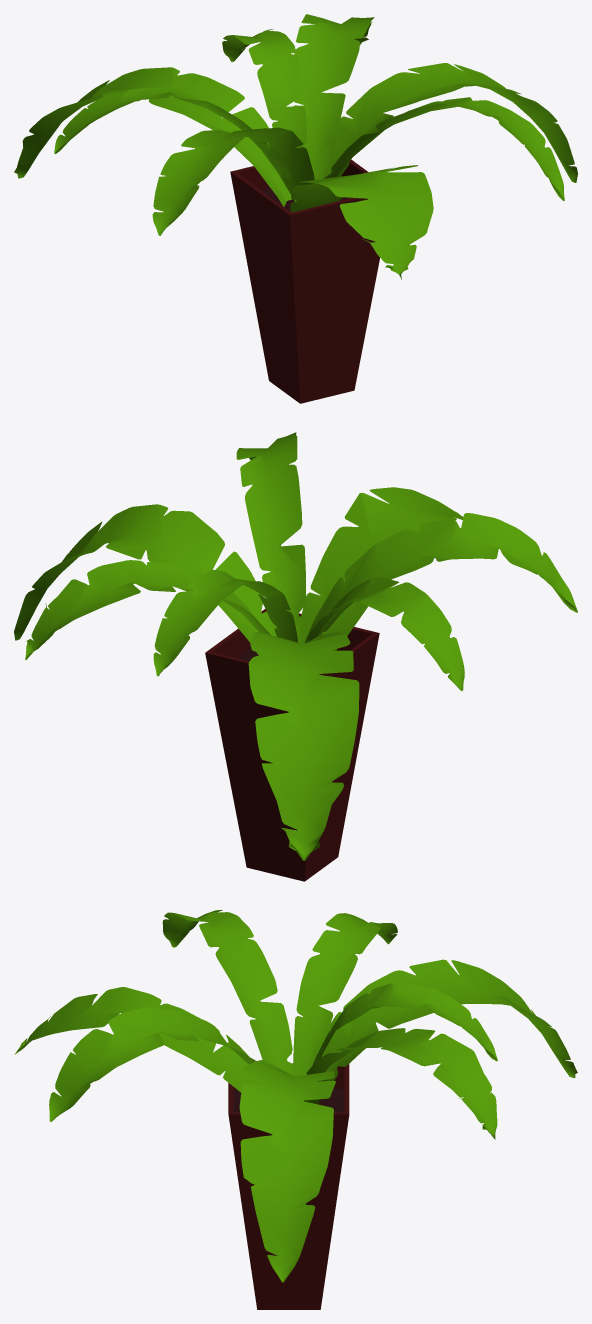
Rendered from highpotplant1.fbx.
3 views of the same model, one above another, from view 1: azimuth 30°, elevation 25°; view 2: azimuth 150°, elevation 25°; view 3: azimuth 270°, elevation 25° (orthographic). The views are drawn at different scales.
Parts seen in each view (by area): view 1: Cube; view 2: Cube; view 3: Cube.
Part boxes in pixels (x1,y1,x2,y2): Cube: (14, 14, 577, 403); Cube: (14, 432, 577, 881); Cube: (14, 910, 577, 1309).
Bounding box in the file's own units: 389 × 250 × 398.
